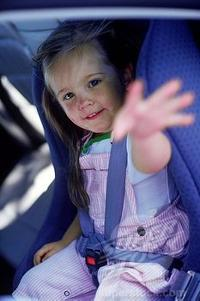person: (1, 20, 196, 301)
